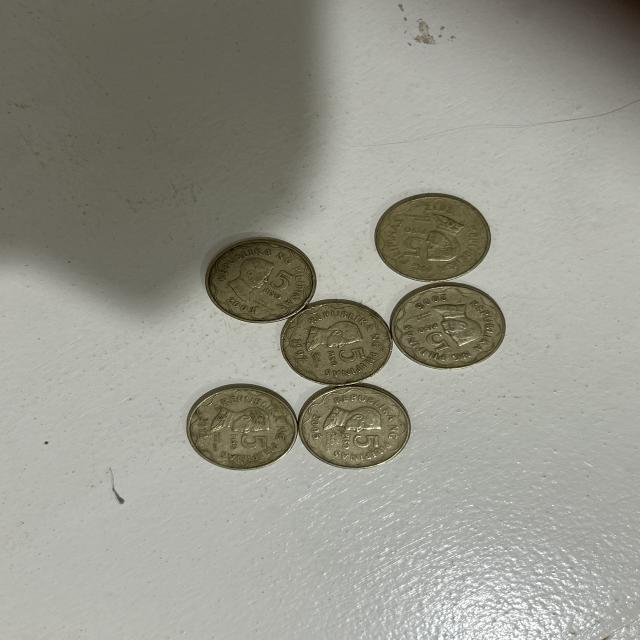5_Old_Front: (336, 432, 389, 462), (321, 347, 375, 374), (411, 318, 451, 354), (255, 269, 300, 299), (397, 227, 430, 265), (224, 429, 272, 455)
